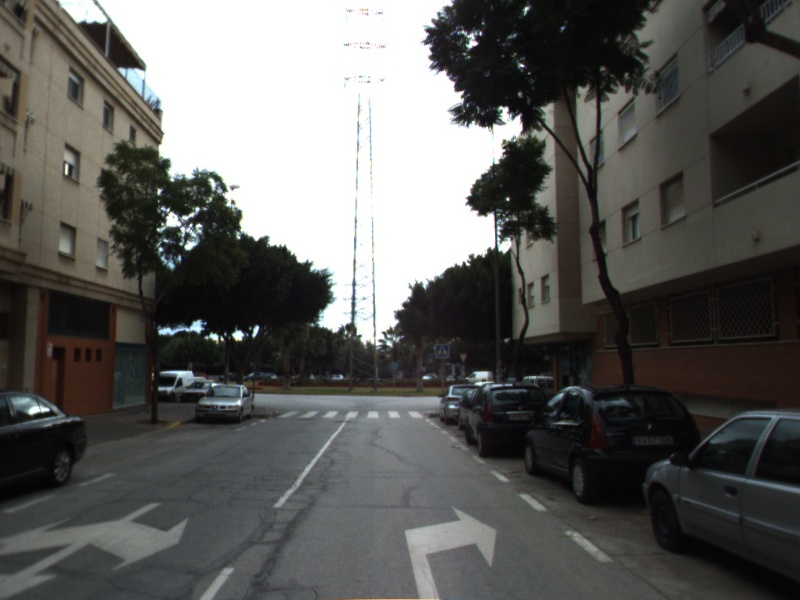RIGHT: (402, 502, 499, 600)
